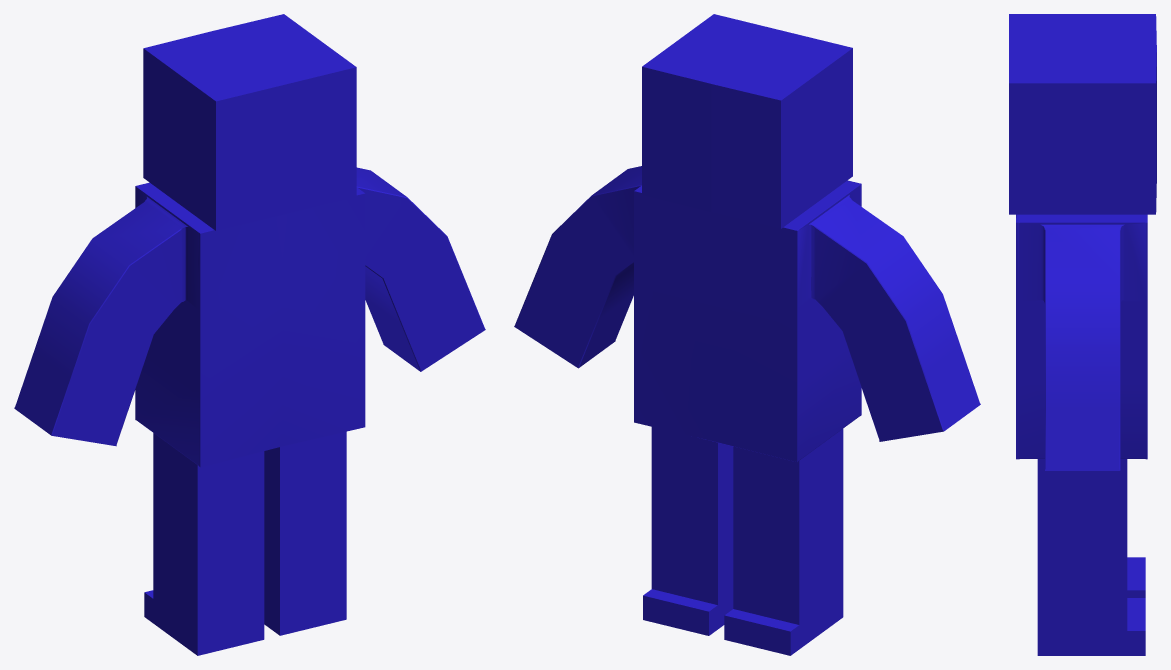
File: Person.obj
The picture shows the model from 3 angles, left to right: view 1: azimuth 30°, elevation 25°; view 2: azimuth 150°, elevation 25°; view 3: azimuth 270°, elevation 25°; orthographic projection. The views are drawn at different scales.
Parts seen in each view (by area): view 1: Box001; view 2: Box001; view 3: Box001.
Boxes of the visible parts, x1=… form: Box001: x1=14, y1=14, x2=485, y2=655; Box001: x1=514, y1=14, x2=980, y2=655; Box001: x1=1009, y1=14, x2=1156, y2=655.
Bounding box in the file's own units: 94.76 × 118 × 27.61.
